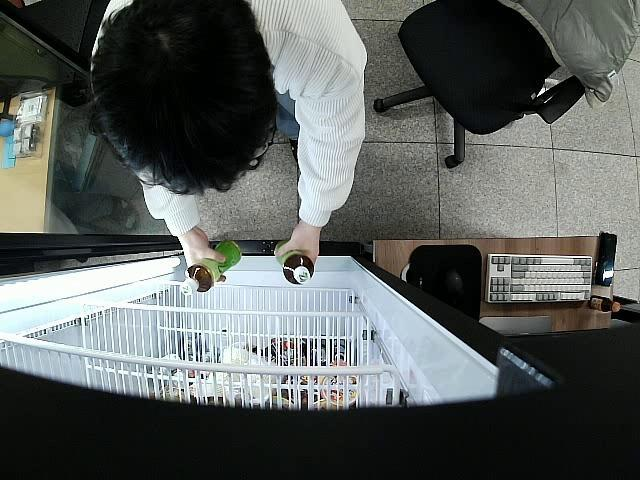19_17cha: (182, 241, 242, 298), (274, 241, 315, 285)
